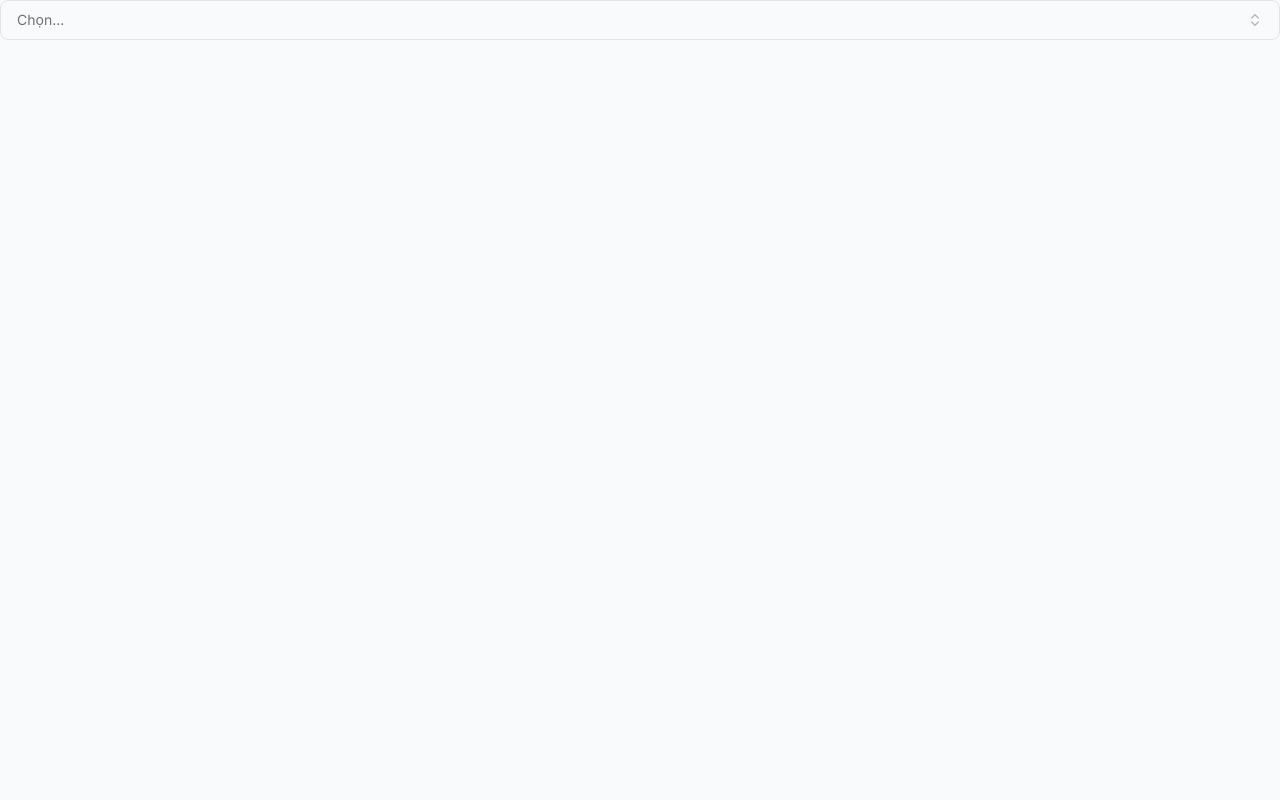
SearchableSelect › opens the popover and shows options on trigger click
This screenshot has width=1280, height=800.
Click the dropdown at (41, 20), box [0, 0, 1279, 40]
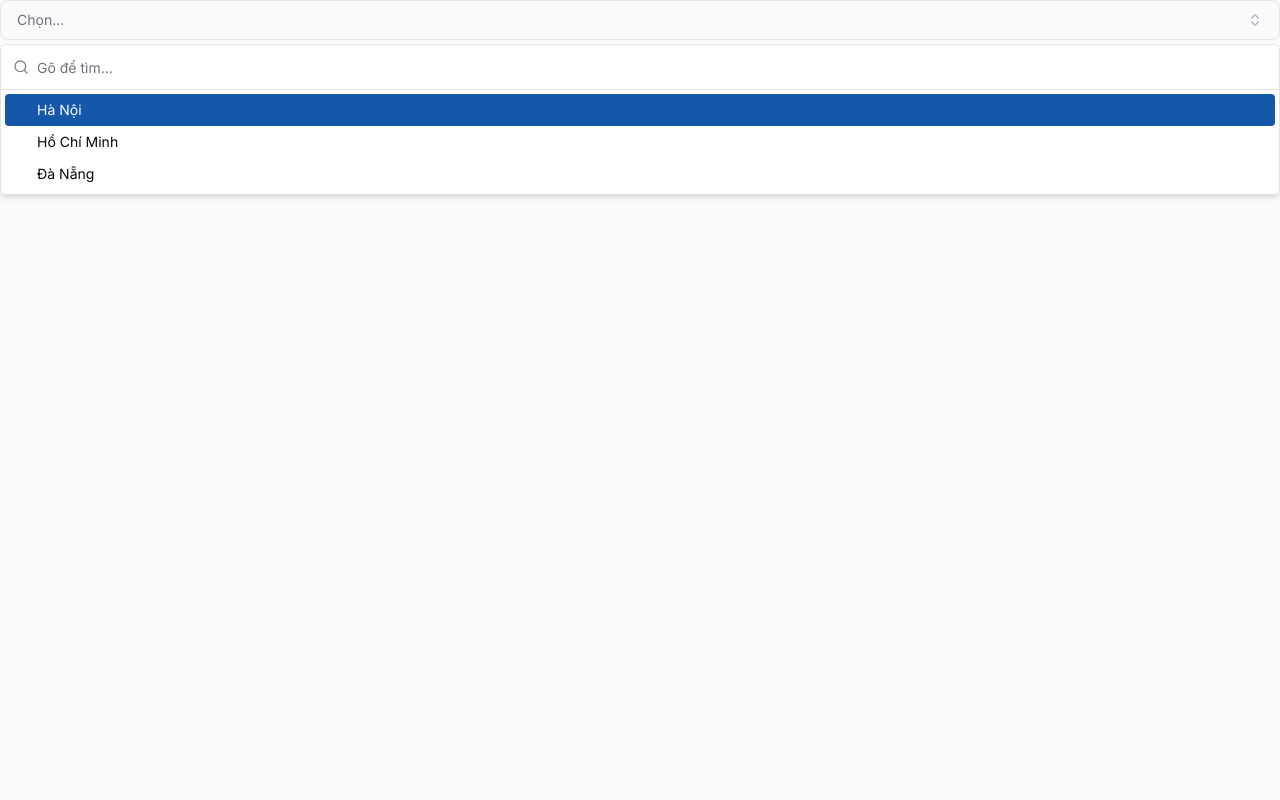
Now the option "Hà Nội" is shown, box [5, 94, 1275, 126]
Now the option "Hồ Chí Minh" is shown, box [37, 133, 118, 150]
Now the option "Đà Nẵng" is shown, box [37, 165, 94, 182]
